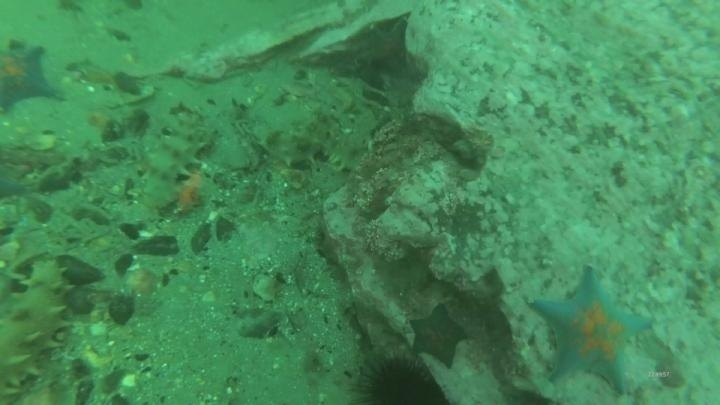echinus: (355, 353, 448, 404)
holothurian: (1, 256, 75, 397), (138, 106, 214, 213), (262, 109, 336, 171)
starfish: (528, 266, 656, 397), (1, 40, 66, 115), (407, 302, 470, 369), (363, 19, 412, 74)
